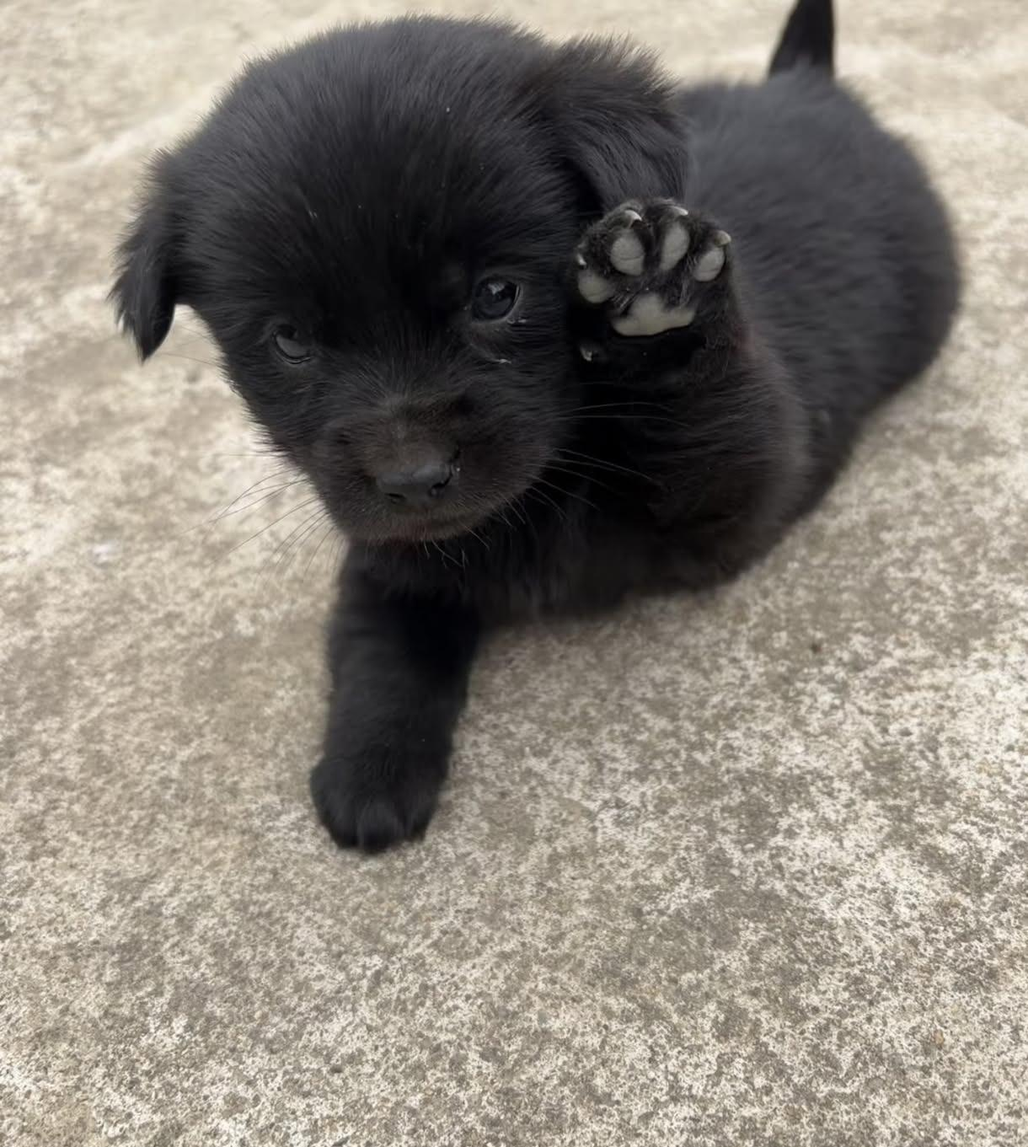puppy-dog: (104, 0, 967, 858)
